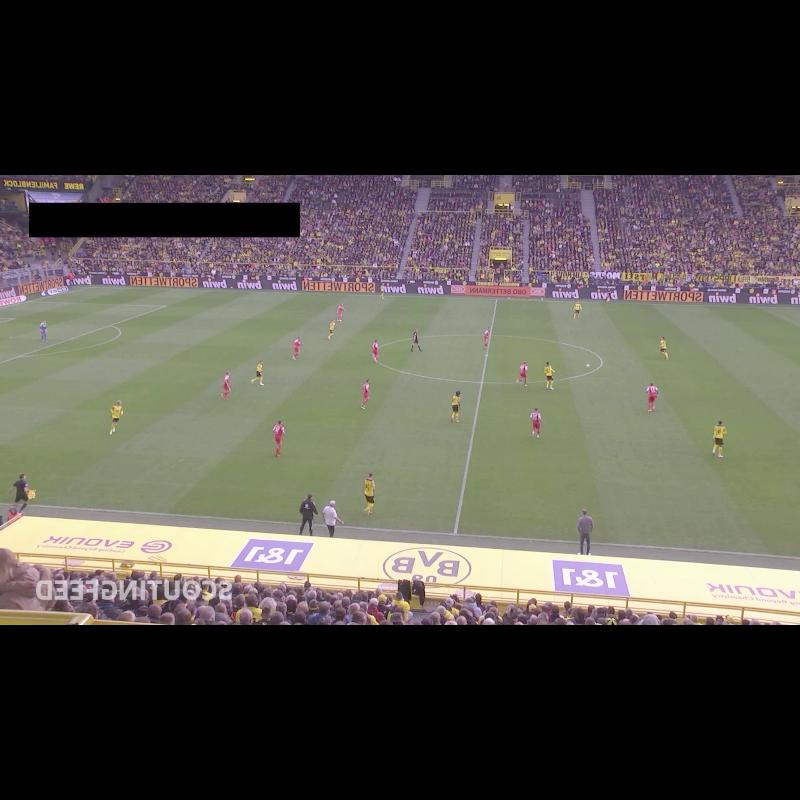cross_recipient_zone: (0, 300, 167, 364)
crossing_player_zone: (30, 287, 268, 308), (734, 307, 800, 328)
pitch: (0, 287, 800, 557)
